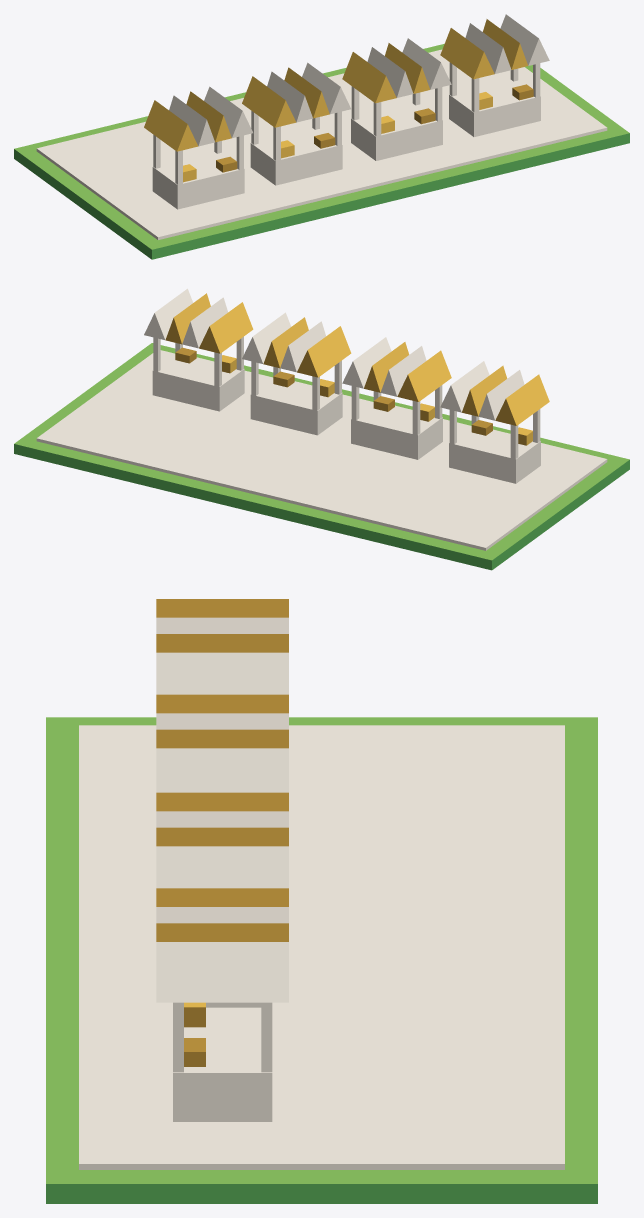
Rendered from skill_decimal_market_t2.glb.
The picture shows the model from 3 angles, top to bottom: view 1: azimuth 30°, elevation 25°; view 2: azimuth 150°, elevation 25°; view 3: azimuth 270°, elevation 25°; orthographic projection. The views are drawn at different scales.
Visible parts, largest first — view 1: plaza, base, stall_3, stall_1, stall_4, stall_2; view 2: plaza, base, stall_2, stall_1, stall_3, stall_4; view 3: plaza, base, stall_4, stall_3, stall_2, stall_1.
Boxes of the visible parts, x1,y1,x2,y2 form: plaza: (36,49,607,239); base: (14,44,629,259); stall_3: (342,38,451,160); stall_1: (144,86,252,209); stall_4: (440,14,549,136); stall_2: (242,62,350,185); plaza: (36,350,607,550); base: (14,343,629,570); stall_2: (342,337,451,459); stall_1: (440,361,549,483); stall_3: (242,312,351,435); stall_4: (144,288,253,411); plaza: (79,725,564,1169); base: (46,717,597,1203); stall_4: (156,888,288,1121); stall_3: (156,792,288,1007); stall_2: (156,694,288,792); stall_1: (156,599,288,694).
Bounding box in the file's own units: 2 × 0.4 × 1.
